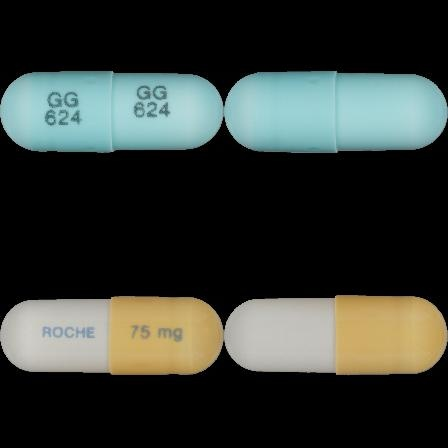50090-0659: (0, 0, 224, 224)
